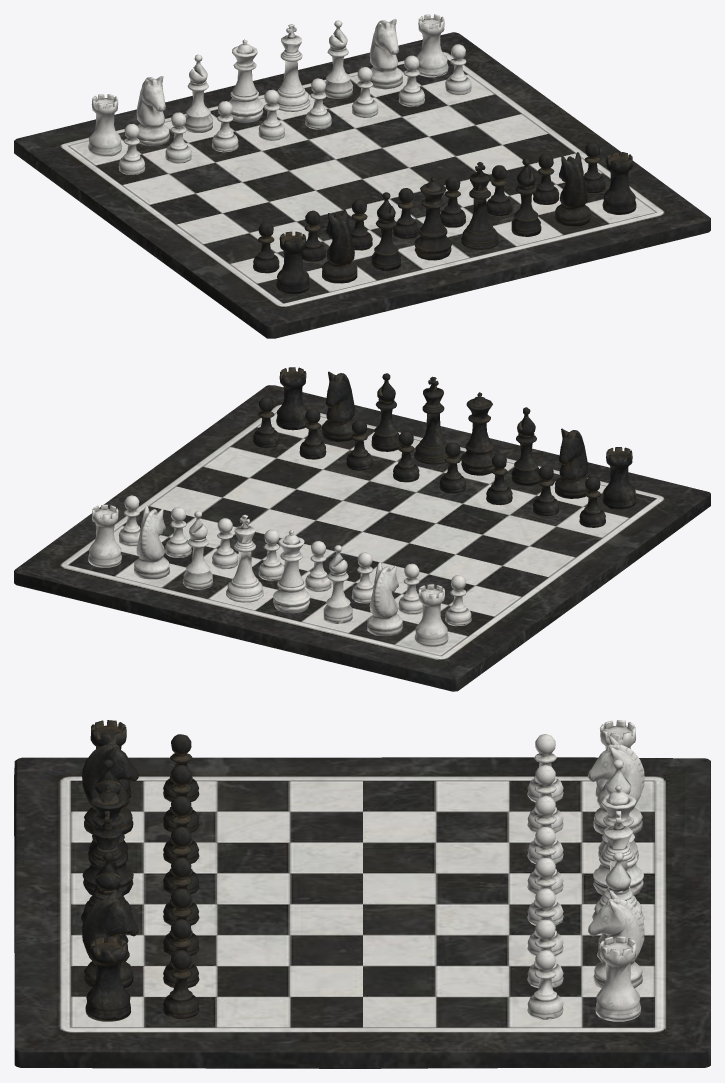
File: chess-set.c4c8b1f6.glb
The picture shows the model from 3 angles, top to bottom: view 1: azimuth 30°, elevation 25°; view 2: azimuth 150°, elevation 25°; view 3: azimuth 270°, elevation 25°; orthographic projection. The views are drawn at different scales.
Parts seen in each view (by area): view 1: model; view 2: model; view 3: model.
Part boxes in pixels (left/top/right/bottom): model: left=14, top=14, right=710, bottom=338; model: left=14, top=367, right=710, bottom=691; model: left=14, top=720, right=710, bottom=1068.
Size of the model in its own units: 0.5526 by 0.1121 by 0.5526.
Materials: 3 (3 with a texture image).
